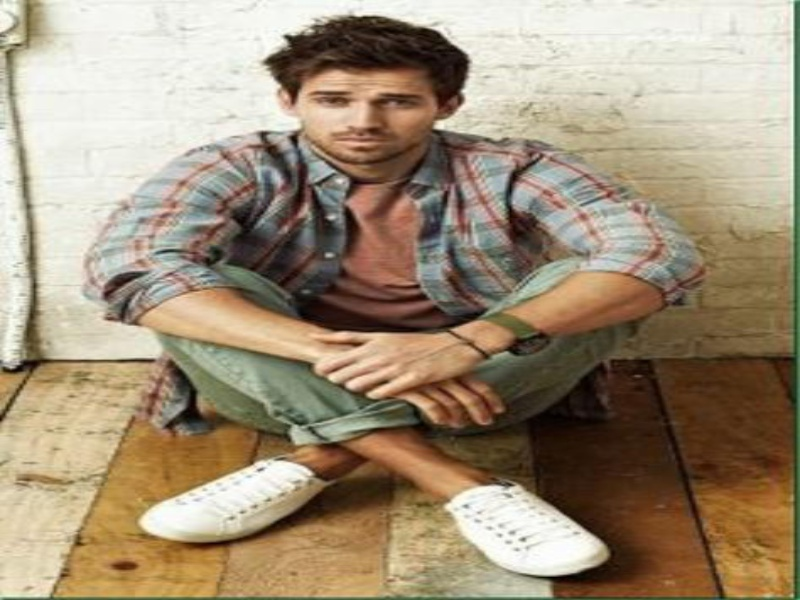TsisyArotava: (284, 14, 462, 194)
